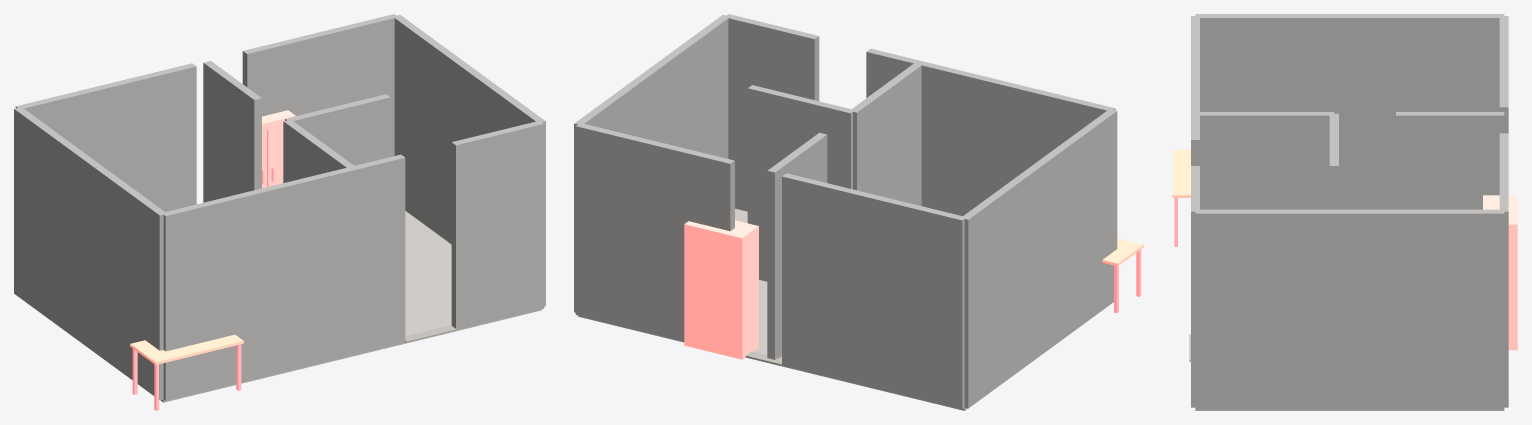
3 views of the same model, side by side, from view 1: azimuth 30°, elevation 25°; view 2: azimuth 150°, elevation 25°; view 3: azimuth 270°, elevation 25° (orthographic). The views are drawn at different scales.
Visible parts, largest first — view 1: Wall_5, Wall_6, Wall_4, Wall_3, Wall_1, Wall_2, Wall_7, Floor, Wall_9, Wall_8, 桌子_1, 柜子_3; view 2: Wall_1, Wall_6, Wall_2, Wall_5, Wall_3, 柜子_3, Wall_9, Wall_4, Wall_8, Wall_7, Floor, 桌子_1; view 3: Wall_3, Wall_6, Wall_8, Wall_7, 柜子_3, Wall_2, Wall_4, Wall_5, 桌子_1, Wall_1, Wall_9, Floor.
Part boxes in pixels (x1,y1,x2,y2): Wall_5: [162, 154, 405, 400]; Wall_6: [14, 107, 166, 400]; Wall_4: [451, 120, 544, 329]; Wall_3: [393, 15, 545, 306]; Wall_1: [15, 63, 196, 211]; Wall_2: [242, 14, 398, 156]; Wall_7: [203, 61, 261, 202]; Floor: [160, 211, 541, 402]; Wall_9: [285, 94, 390, 165]; Wall_8: [283, 120, 355, 182]; 桌子_1: [130, 334, 243, 410]; 柜子_3: [262, 110, 295, 188]; Wall_1: [782, 173, 966, 408]; Wall_6: [963, 109, 1117, 408]; Wall_2: [575, 124, 734, 341]; Wall_5: [866, 48, 1115, 216]; Wall_3: [574, 14, 730, 312]; 柜子_3: [684, 220, 758, 359]; Wall_9: [747, 85, 854, 281]; Wall_4: [726, 14, 819, 211]; Wall_8: [852, 62, 922, 205]; Wall_7: [767, 132, 827, 359]; Floor: [578, 208, 967, 410]; 桌子_1: [1102, 238, 1143, 312]; Wall_3: [1195, 209, 1504, 409]; Wall_6: [1195, 14, 1504, 209]; Wall_8: [1200, 112, 1334, 209]; Wall_7: [1396, 112, 1504, 209]; 柜子_3: [1483, 195, 1517, 350]; Wall_2: [1499, 133, 1508, 407]; Wall_4: [1191, 166, 1199, 407]; Wall_5: [1191, 16, 1199, 165]; 桌子_1: [1172, 149, 1190, 246]; Wall_1: [1499, 16, 1508, 133]; Wall_9: [1329, 113, 1338, 209]; Floor: [1195, 409, 1504, 410].
Bounding box in the file's own units: 6.36 × 2.85 × 4.47.
